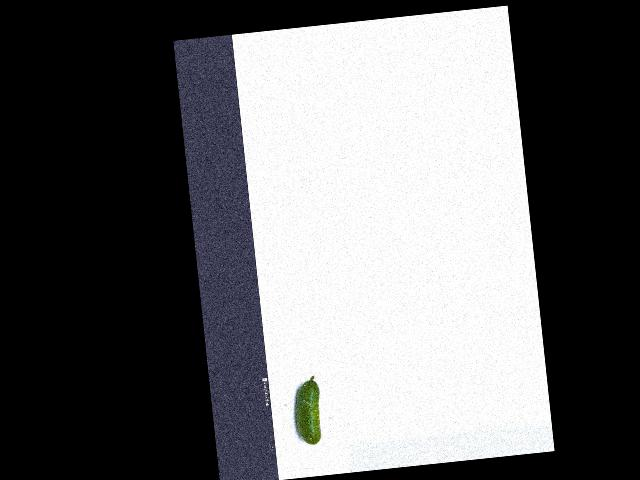cucumber: (291, 375, 324, 446)
